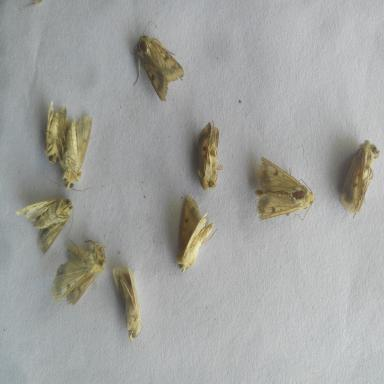abw: (128, 16, 187, 107), (36, 109, 98, 194), (253, 151, 319, 229), (48, 234, 109, 316), (11, 188, 76, 257), (333, 134, 382, 223), (173, 192, 220, 276), (106, 258, 148, 346), (190, 115, 227, 193), (39, 96, 72, 169)
